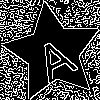A: (28, 28, 80, 84)
